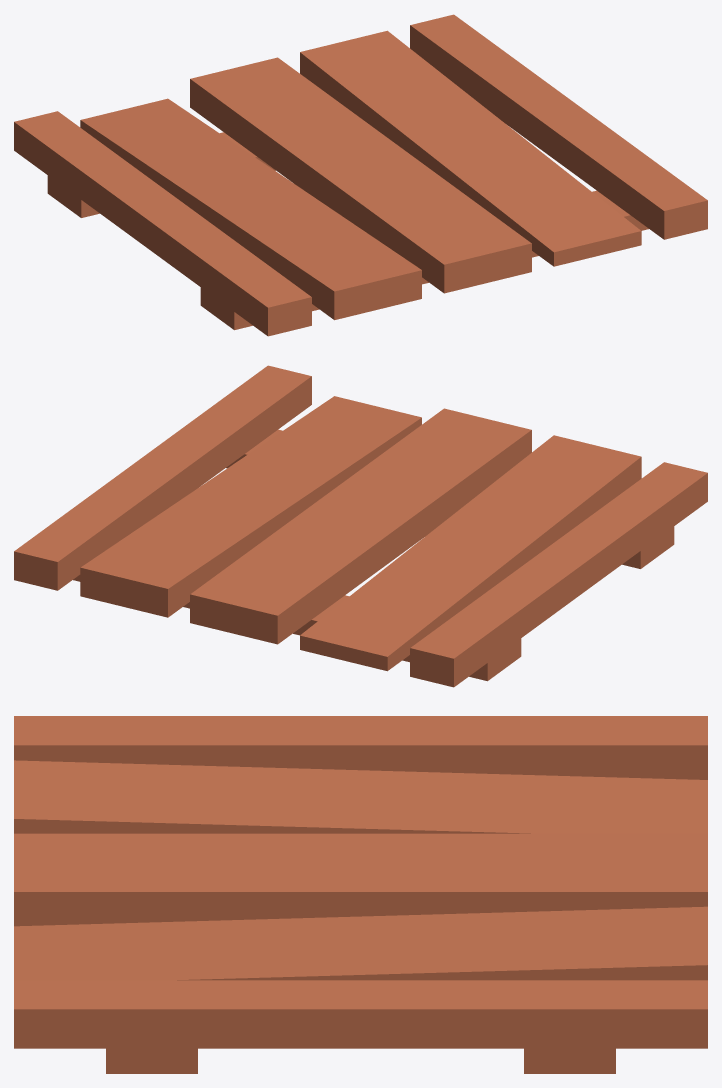
File: floor-old.obj
3 views of the same model, one above another, from view 1: azimuth 30°, elevation 25°; view 2: azimuth 150°, elevation 25°; view 3: azimuth 270°, elevation 25° (orthographic). The views are drawn at different scales.
Size of the model in its own units: 0.5 by 0.0512 by 0.5.
